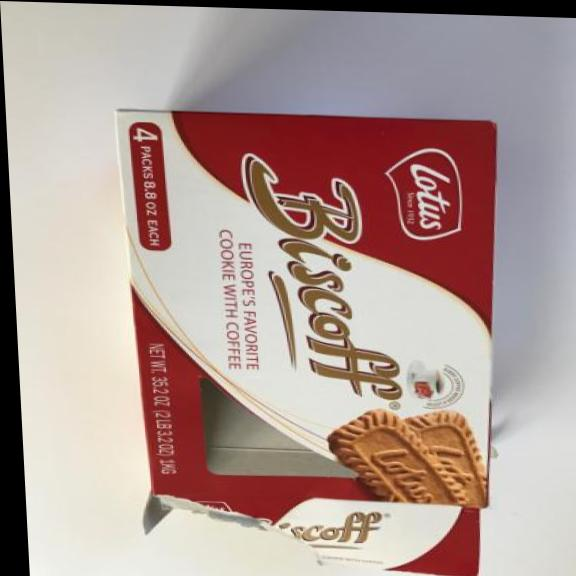Kertas: (98, 85, 546, 576)
